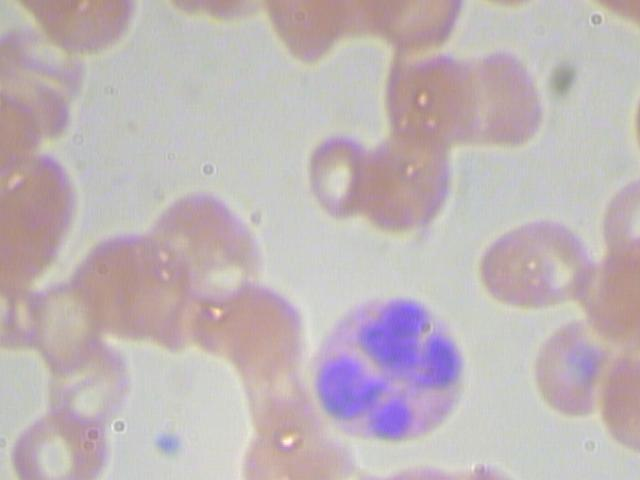RBC: (144, 184, 275, 322), (473, 217, 599, 313), (360, 126, 463, 237), (207, 284, 312, 374), (9, 406, 114, 480), (529, 319, 602, 415), (297, 131, 374, 222), (37, 279, 104, 377), (476, 46, 543, 144)
